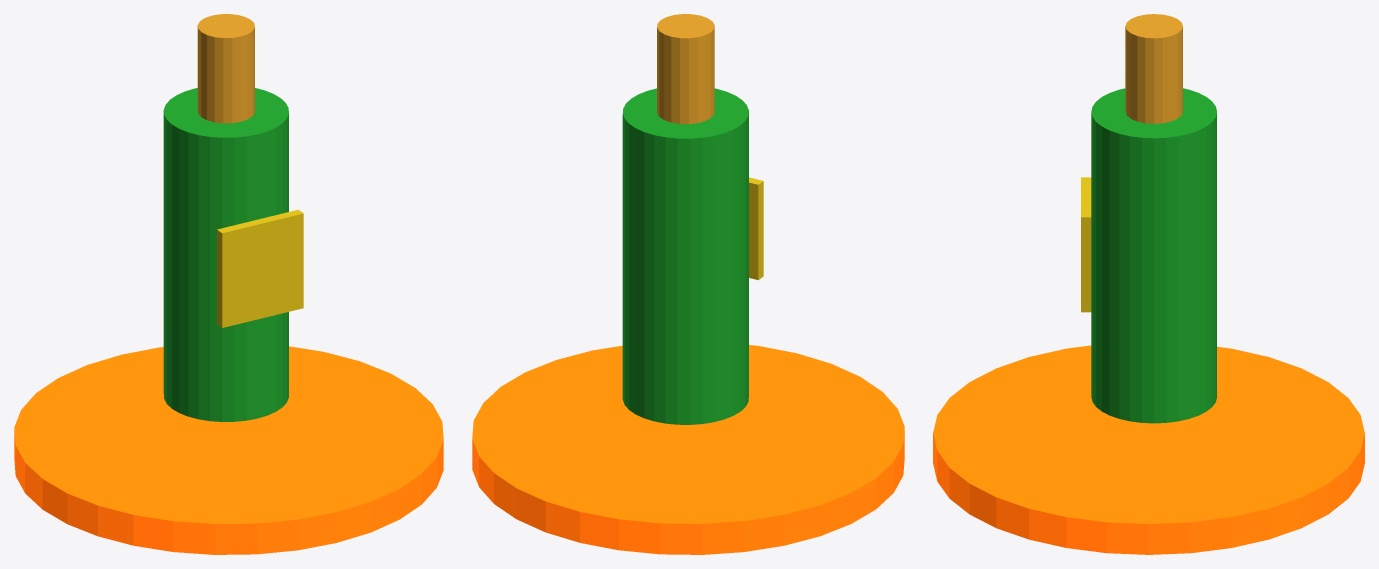
File: spanish_olive_oil.dae
3 renders of one model, left to right at view 1: azimuth 30°, elevation 25°; view 2: azimuth 150°, elevation 25°; view 3: azimuth 270°, elevation 25°, orthographic.
Parts seen in each view (by area): view 1: 11_15_Popular_Spanish_Olive_Oil_ROOT_base, 11_15_Popular_Spanish_Olive_Oil_part_01, 11_15_Popular_Spanish_Olive_Oil_part_03, 11_15_Popular_Spanish_Olive_Oil_part_02; view 2: 11_15_Popular_Spanish_Olive_Oil_ROOT_base, 11_15_Popular_Spanish_Olive_Oil_part_01, 11_15_Popular_Spanish_Olive_Oil_part_02, 11_15_Popular_Spanish_Olive_Oil_part_03; view 3: 11_15_Popular_Spanish_Olive_Oil_ROOT_base, 11_15_Popular_Spanish_Olive_Oil_part_01, 11_15_Popular_Spanish_Olive_Oil_part_02, 11_15_Popular_Spanish_Olive_Oil_part_03.
Boxes of the visible parts, x1,y1,x2,y2 form: 11_15_Popular_Spanish_Olive_Oil_ROOT_base: (14,346,443,554); 11_15_Popular_Spanish_Olive_Oil_part_01: (163,88,288,421); 11_15_Popular_Spanish_Olive_Oil_part_03: (217,209,303,327); 11_15_Popular_Spanish_Olive_Oil_part_02: (197,14,254,123); 11_15_Popular_Spanish_Olive_Oil_ROOT_base: (472,345,904,554); 11_15_Popular_Spanish_Olive_Oil_part_01: (622,88,748,424); 11_15_Popular_Spanish_Olive_Oil_part_02: (657,14,714,124); 11_15_Popular_Spanish_Olive_Oil_part_03: (749,177,763,280); 11_15_Popular_Spanish_Olive_Oil_ROOT_base: (933,345,1364,554); 11_15_Popular_Spanish_Olive_Oil_part_01: (1091,88,1216,423); 11_15_Popular_Spanish_Olive_Oil_part_02: (1125,14,1182,123); 11_15_Popular_Spanish_Olive_Oil_part_03: (1081,177,1091,312).
Bounding box in the file's own units: 0.76 × 0.85 × 0.76.
